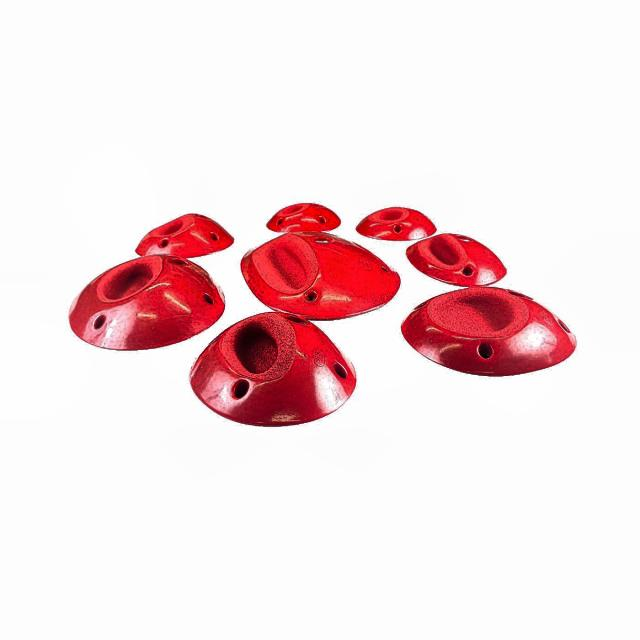Hold: (181, 310, 364, 426), (404, 284, 579, 380), (240, 232, 400, 323), (70, 255, 222, 349), (403, 232, 514, 286), (134, 210, 237, 257), (354, 197, 434, 242), (266, 201, 341, 235)
